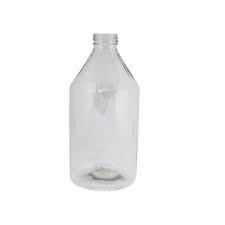bottle: (55, 105, 152, 115)
